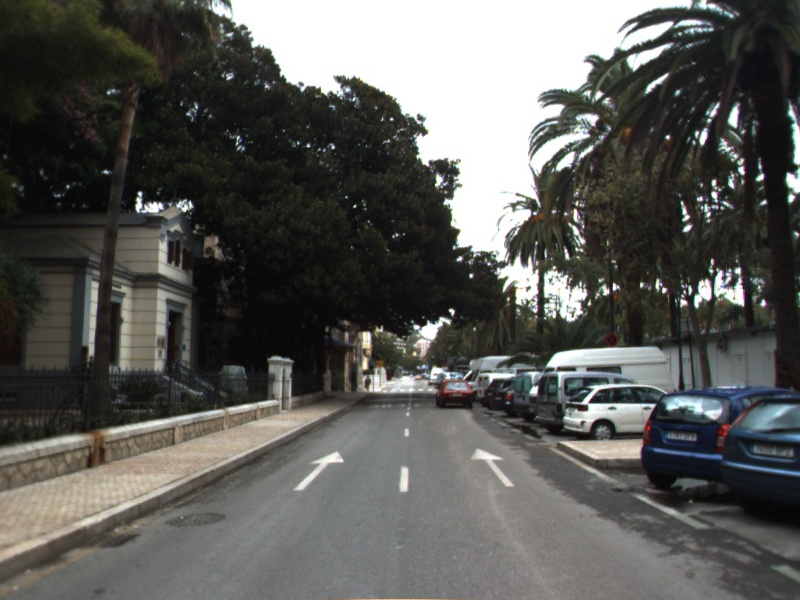STRAIGHT: (291, 449, 347, 493), (468, 446, 517, 489)
